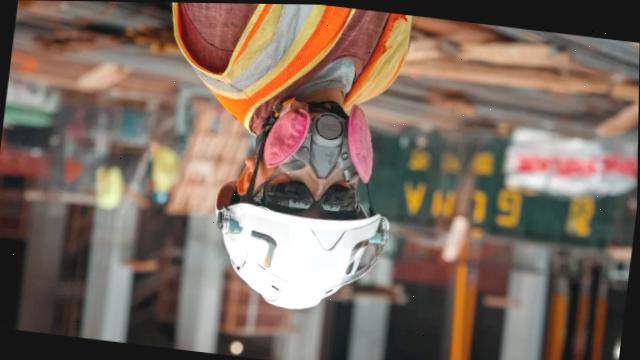helmet: (204, 190, 389, 317)
vest: (169, 2, 401, 130)
